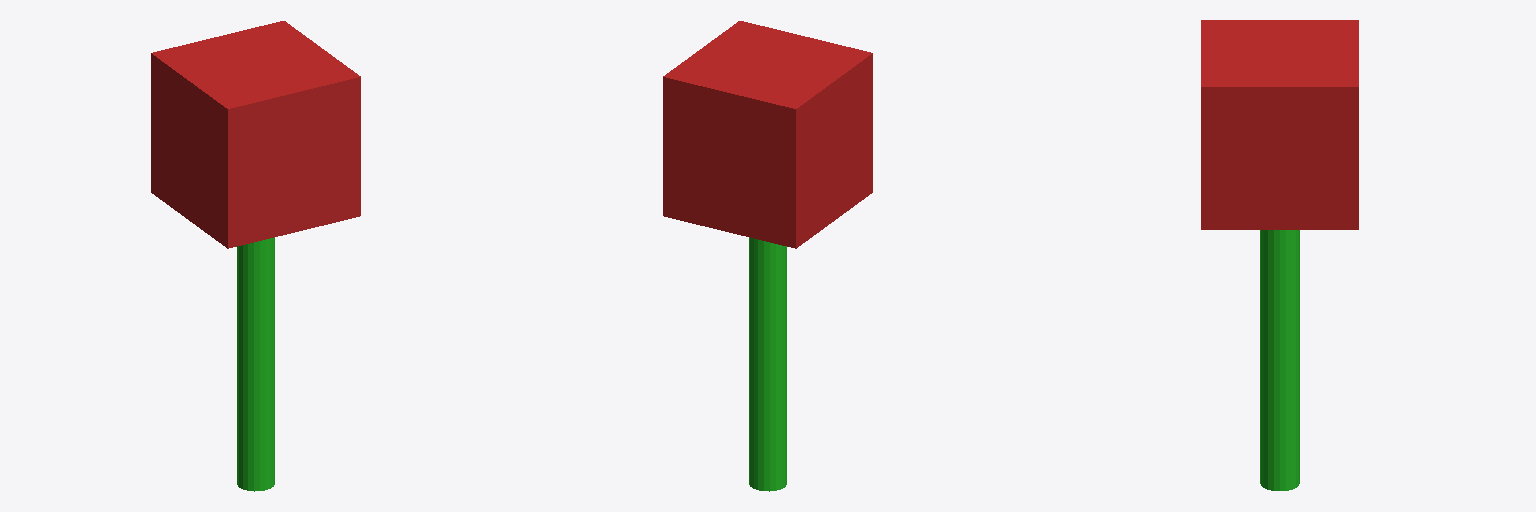
robot.urdf — monopod:
<?xml version="1.0" ?>
<!-- =================================================================================== -->
<!-- |    This document was autogenerated by xacro from monopod.urdf.xacro             | -->
<!-- |    EDITING THIS FILE BY HAND IS NOT RECOMMENDED                                 | -->
<!-- =================================================================================== -->
<robot name="monopod" xmlns:xacro="http://ros.org/wiki/xacro">
  <!-- Cube base -->
  <link name="base_link">
    <inertial>
      <origin rpy="0 0 0" xyz="0 0 0.5"/>
      <mass value="2.0"/>
      <inertia ixx="0.0133" ixy="0.0" ixz="0.0" iyy="0.0133" iyz="0.0" izz="0.0133"/>
    </inertial>
    <visual>
      <origin rpy="0 0 0" xyz="0 0 0.5"/>
      <geometry>
        <mesh filename="package://meshes/cube_body.dae"/>
      </geometry>
      <material name="base_color">
        <color rgba="0.8 0.2 0.2 1.0"/>
      </material>
    </visual>
    <collision>
      <origin rpy="0 0 0" xyz="0 0 0.5"/>
      <geometry>
        <mesh filename="package://meshes/cube_body.dae"/>
      </geometry>
    </collision>
  </link>
  <!-- Joint 1: Pitch (X-axis) -->
  <joint name="joint_pitch" type="revolute">
    <parent link="base_link"/>
    <child link="intermediate_link"/>
    <origin rpy="0 0 0" xyz="0 0 -0.1"/>
    <axis xyz="1 0 0"/>
    <limit effort="10" lower="-1.57" upper="1.57" velocity="1.0"/>
  </joint>
  <!-- Intermediate link for universal joint -->
  <link name="intermediate_link">
    <inertial>
      <origin rpy="0 0 0" xyz="0 0 0"/>
      <mass value="0.001"/>
      <inertia ixx="1e-6" ixy="0" ixz="0" iyy="1e-6" iyz="0" izz="1e-6"/>
    </inertial>
  </link>
  <!-- Joint 2: Roll (Y-axis) -->
  <joint name="joint_roll" type="revolute">
    <parent link="intermediate_link"/>
    <child link="leg_link"/>
    <origin rpy="0 0 0" xyz="0 0 0"/>
    <axis xyz="0 1 0"/>
    <limit effort="10" lower="-1.57" upper="1.57" velocity="1.0"/>
  </joint>
  <!-- Cylindrical leg -->
  <link name="leg_link">
    <inertial>
      <origin rpy="0 0 0" xyz="0 0 0.1"/>
      <mass value="1.0"/>
      <inertia ixx="0.00104" ixy="0.0" ixz="0.0" iyy="0.00104" iyz="0.0" izz="0.00005"/>
    </inertial>
    <visual>
      <origin rpy="0 0 0" xyz="0 0 0.1"/>
      <geometry>
        <mesh filename="package://meshes/cylindrical_leg.dae"/>
      </geometry>
      <material name="leg_color">
        <color rgba="0.2 0.8 0.2 1.0"/>
      </material>
    </visual>
    <collision>
      <origin rpy="0 0 0" xyz="0 0 0.1"/>
      <geometry>
        <mesh filename="package://meshes/cylindrical_leg.dae"/>
      </geometry>
    </collision>
  </link>
</robot>

--- Render facts (derived) ---
3 views of the same robot in one strip: view 1: azimuth 30°, elevation 25°; view 2: azimuth 150°, elevation 25°; view 3: azimuth 270°, elevation 25° (orthographic).
Model monopod with 3 links and 2 joints (2 revolute), rooted at base_link, posed every joint at zero.
Visible links, largest first — view 1: base_link, leg_link; view 2: base_link, leg_link; view 3: base_link, leg_link.
Link boxes in pixels (box(x1,y1,x2,y2)): base_link: box(151, 21, 360, 248); leg_link: box(237, 237, 274, 491); base_link: box(663, 21, 872, 248); leg_link: box(749, 237, 786, 491); base_link: box(1201, 20, 1358, 229); leg_link: box(1260, 230, 1299, 490).
Bounding box of the posed robot: 0.2 × 0.2 × 0.6 m (x, y, z).
2 mesh visuals loaded from 2 distinct referenced files (2 Collada DAE).
